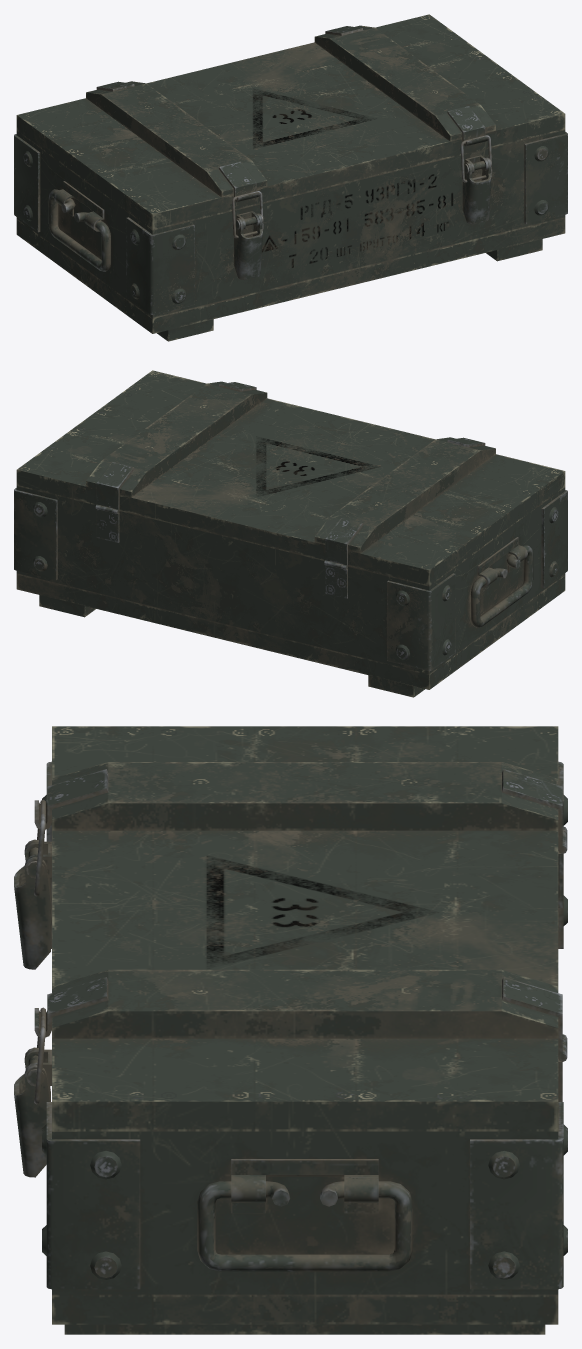
File: RGD-5_Box.fbx
3 views of the same model, one above another, from view 1: azimuth 30°, elevation 25°; view 2: azimuth 150°, elevation 25°; view 3: azimuth 270°, elevation 25° (orthographic). The views are drawn at different scales.
Parts seen in each view (by area): view 1: Krishka1_low_Cube.072, Telo_low_Cube.068, Krishka2_low_Cube.070, Ugolki_low_Cube.071, Dno_low_Cube.073, Skoba_low_Cube.077, Petly3_low_Cube.074, Ruchki_low_Plane.002, Nojki_low_Cube.069, Ruchki_holder_low_Plane.005, Koltso_low_Plane, Petly1_low_Cube.075; view 2: Krishka1_low_Cube.072, Telo_low_Cube.068, Krishka2_low_Cube.070, Ugolki_low_Cube.071, Dno_low_Cube.073, Petly1_low_Cube.075, Ruchki_low_Plane.002, Petly2_low_Cube.029, Nojki_low_Cube.069, Ruchki_holder_low_Plane.005, Petly3_low_Cube.074; view 3: Krishka1_low_Cube.072, Krishka2_low_Cube.070, Telo_low_Cube.068, Ugolki_low_Cube.071, Dno_low_Cube.073, Ruchki_low_Plane.002, Skoba_low_Cube.077, Nojki_low_Cube.069, Ruchki_holder_low_Plane.005, Petly3_low_Cube.074, Petly1_low_Cube.075, Koltso_low_Plane (+1 smaller).
Boxes of the visible parts, x1,y1,x2,y2 form: Krishka1_low_Cube.072: [16, 14, 565, 230]; Telo_low_Cube.068: [16, 130, 565, 317]; Krishka2_low_Cube.070: [86, 25, 495, 197]; Ugolki_low_Cube.071: [14, 132, 567, 314]; Dno_low_Cube.073: [16, 217, 565, 333]; Skoba_low_Cube.077: [234, 157, 491, 279]; Petly3_low_Cube.074: [218, 106, 488, 201]; Ruchki_low_Plane.002: [48, 189, 110, 271]; Nojki_low_Cube.069: [157, 239, 542, 341]; Ruchki_holder_low_Plane.005: [54, 181, 104, 237]; Koltso_low_Plane: [232, 135, 492, 238]; Petly1_low_Cube.075: [96, 26, 363, 91]; Krishka1_low_Cube.072: [16, 370, 565, 586]; Telo_low_Cube.068: [16, 486, 565, 673]; Krishka2_low_Cube.070: [86, 381, 495, 553]; Ugolki_low_Cube.071: [14, 488, 567, 670]; Dno_low_Cube.073: [16, 573, 565, 689]; Petly1_low_Cube.075: [95, 462, 363, 569]; Ruchki_low_Plane.002: [471, 545, 533, 627]; Petly2_low_Cube.029: [96, 505, 347, 598]; Nojki_low_Cube.069: [39, 595, 424, 697]; Ruchki_holder_low_Plane.005: [477, 537, 527, 593]; Petly3_low_Cube.074: [218, 382, 485, 447]; Krishka1_low_Cube.072: [52, 726, 558, 1131]; Krishka2_low_Cube.070: [52, 762, 558, 1038]; Telo_low_Cube.068: [52, 1131, 558, 1294]; Ugolki_low_Cube.071: [42, 761, 567, 1289]; Dno_low_Cube.073: [52, 1294, 558, 1324]; Ruchki_low_Plane.002: [197, 1181, 412, 1271]; Skoba_low_Cube.077: [14, 839, 50, 1177]; Nojki_low_Cube.069: [64, 1324, 545, 1334]; Ruchki_holder_low_Plane.005: [231, 1159, 378, 1213]; Petly3_low_Cube.074: [34, 769, 108, 1037]; Petly1_low_Cube.075: [502, 769, 567, 1061]; Koltso_low_Plane: [34, 799, 45, 1104].
Bounding box in the file's own units: 73.33 × 23.99 × 42.76.
1 material, 1 textured.
